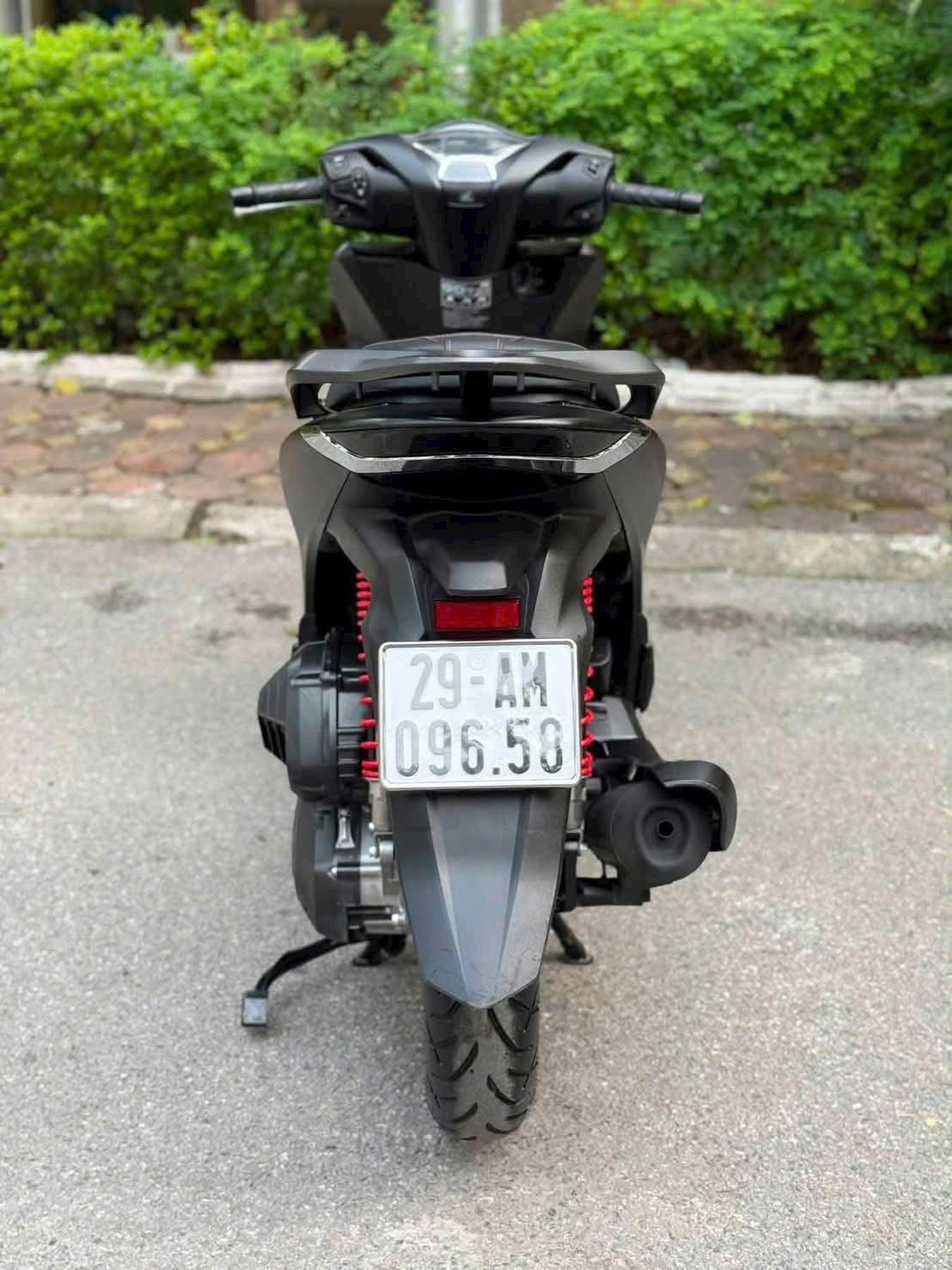Bien-so: (375, 637, 583, 797)
